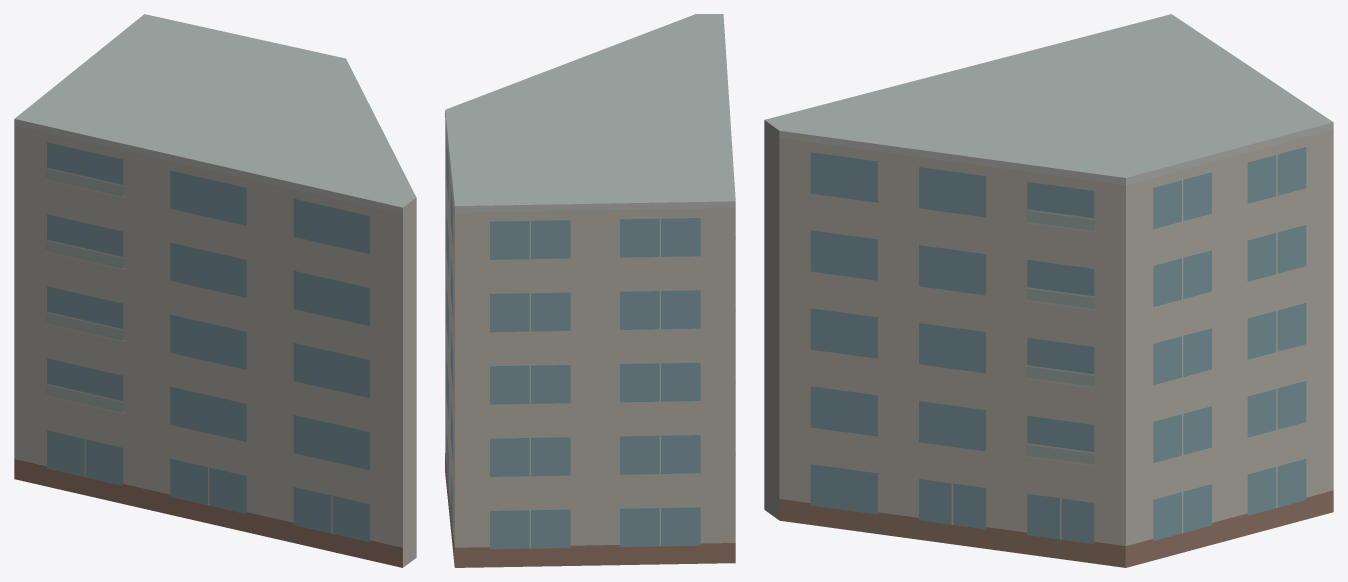
File: survey-upis-32970411.glb
3 views of the same model, side by side, from view 1: azimuth 30°, elevation 25°; view 2: azimuth 150°, elevation 25°; view 3: azimuth 270°, elevation 25° (orthographic). The views are drawn at different scales.
Parts seen in each view (by area): view 1: survey-upis-32970411.tmp; view 2: survey-upis-32970411.tmp; view 3: survey-upis-32970411.tmp.
Boxes of the visible parts, x1,y1,x2,y2 form: survey-upis-32970411.tmp: (14,14,416,567); survey-upis-32970411.tmp: (445,14,735,567); survey-upis-32970411.tmp: (764,14,1333,567).
Size of the model in its own units: 12.01 by 13.3 by 17.61.
